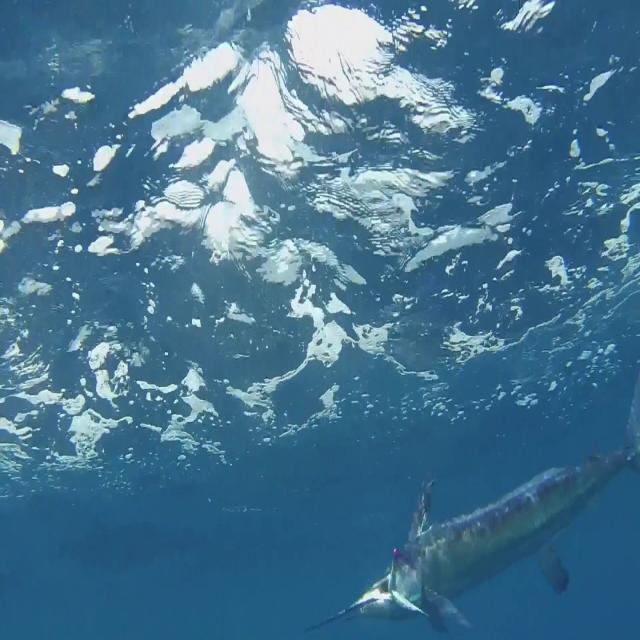Spear Fish: (303, 372, 640, 639)
